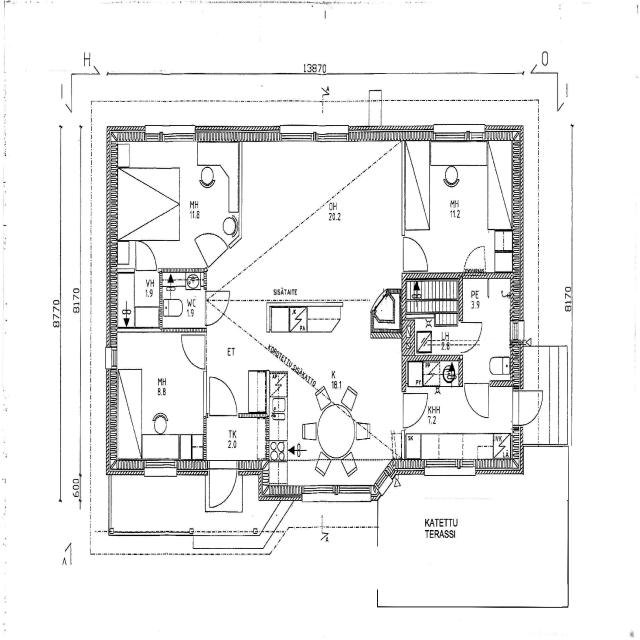door: (205, 461, 240, 512), (206, 371, 239, 418), (400, 232, 431, 274), (400, 388, 430, 430), (514, 388, 543, 429), (463, 380, 491, 421), (180, 332, 208, 370), (460, 241, 488, 277), (459, 318, 484, 353), (134, 239, 158, 272), (205, 298, 227, 326)
window: (431, 125, 485, 146), (142, 458, 179, 480), (278, 125, 316, 145), (336, 480, 373, 500), (162, 124, 197, 145), (424, 458, 463, 475), (318, 124, 351, 144), (373, 471, 393, 499), (301, 482, 328, 502)
zone: (252, 143, 403, 293), (112, 147, 238, 252), (113, 331, 205, 463), (406, 144, 492, 277), (405, 382, 514, 468), (116, 157, 182, 244), (473, 278, 513, 386), (203, 414, 264, 470), (443, 379, 505, 429), (112, 271, 162, 331), (160, 274, 205, 334), (405, 280, 460, 319)
